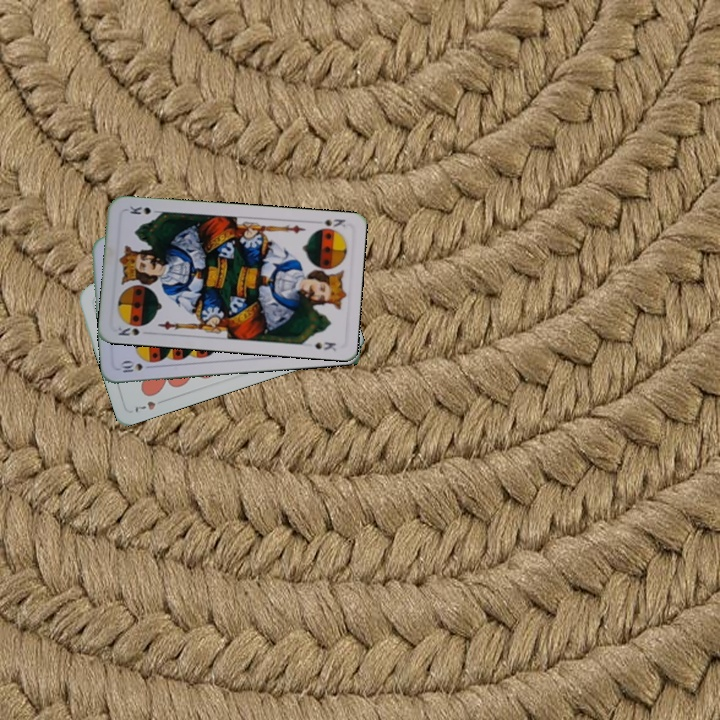H7: (131, 395, 169, 415)
S10: (116, 358, 145, 375)
SK: (114, 320, 149, 338), (319, 215, 348, 230)
